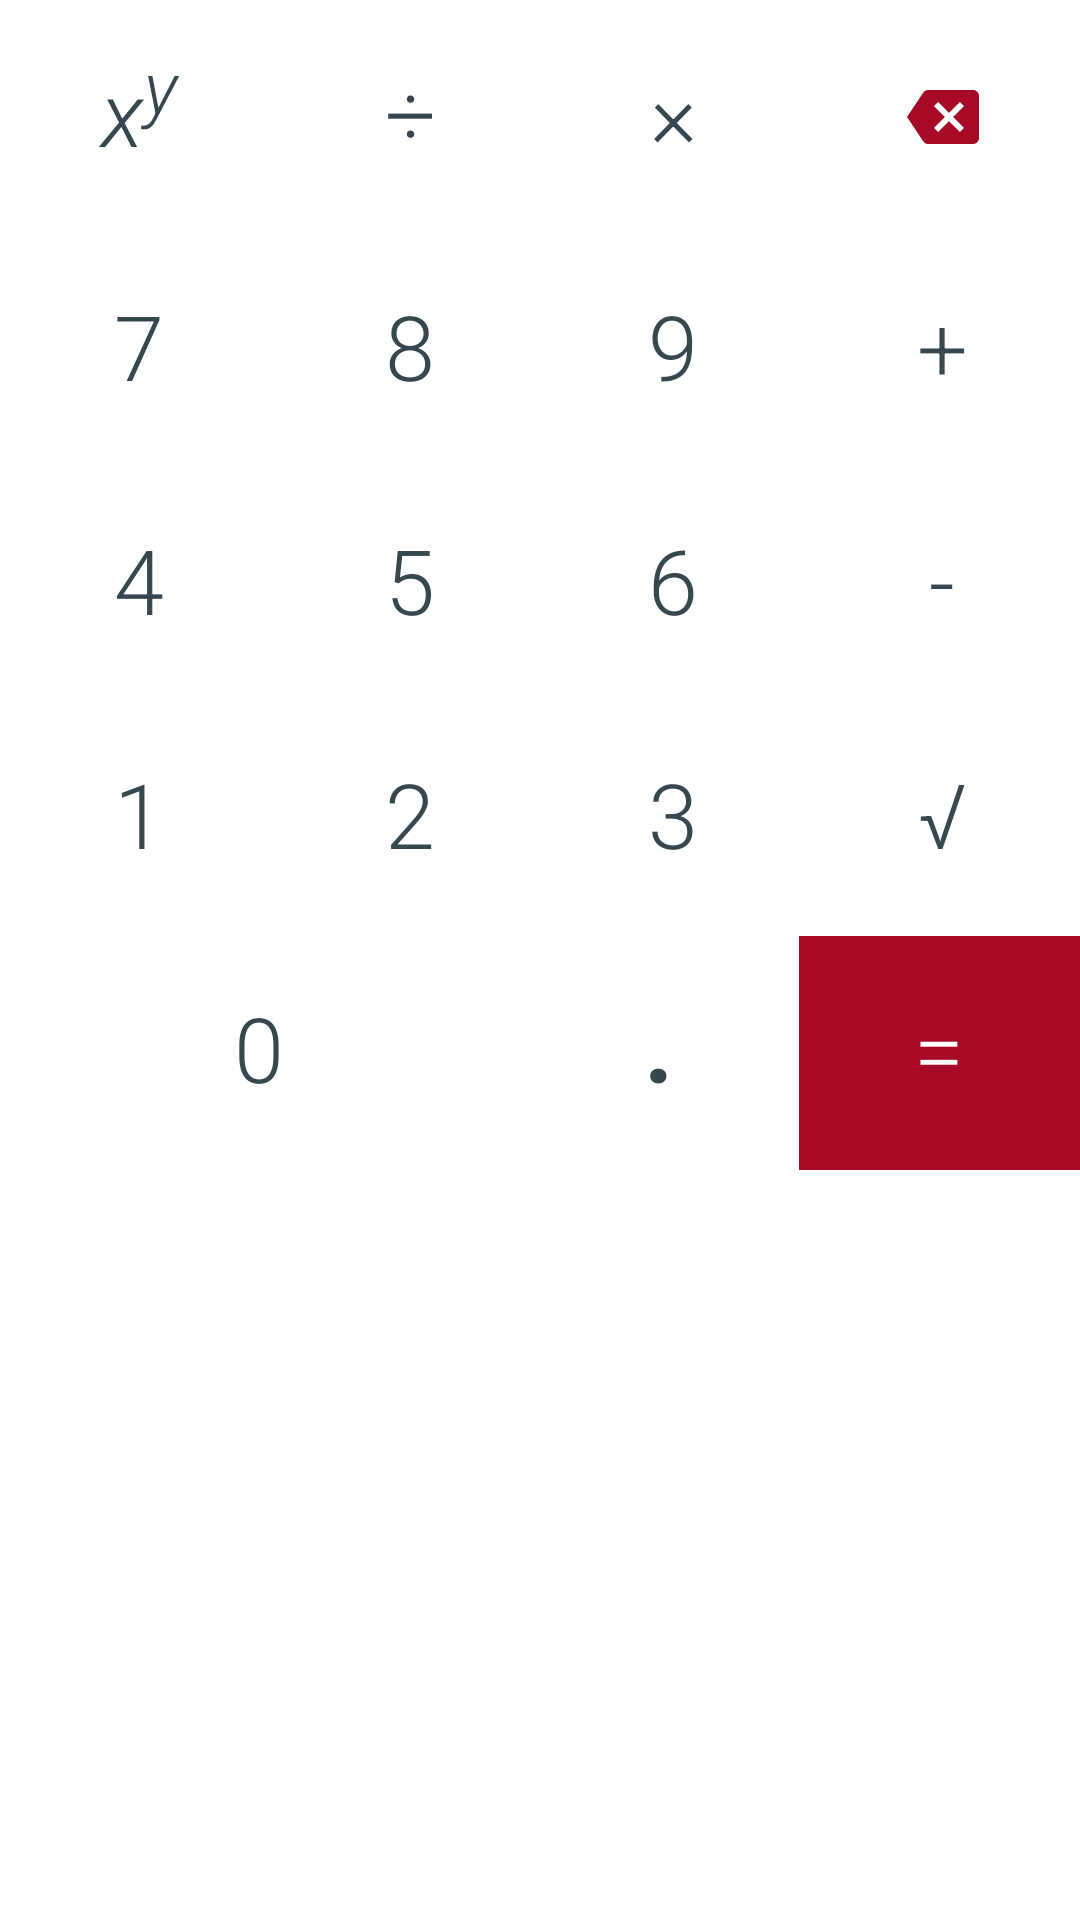

Named icons in this screenshot (1080x1920) and their bounding boxes, region(x1, y1, x2, y2):
backspace: region(907, 90, 979, 144)
